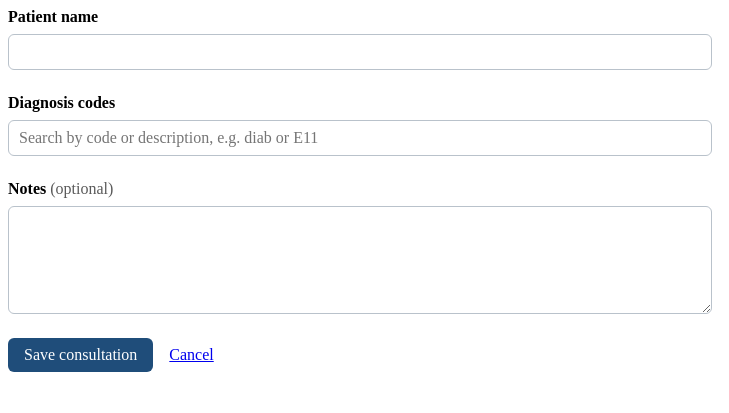
ConsultationForm validation › rejects a submit with no diagnosis codes
In the field labelled "Patient name": [360, 52] box [8, 34, 712, 70], type "Nguyen An"
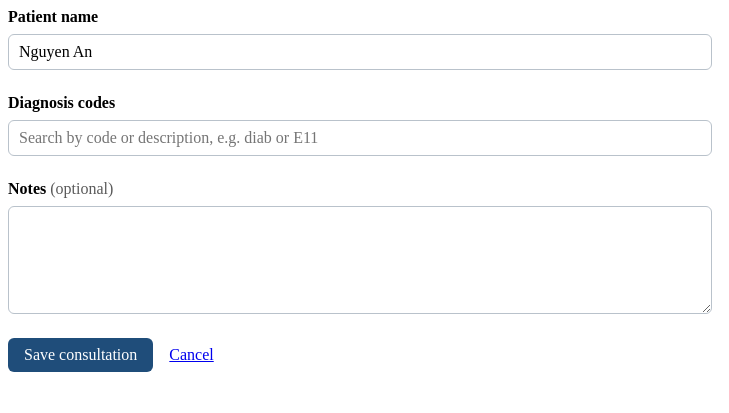
Submit the form
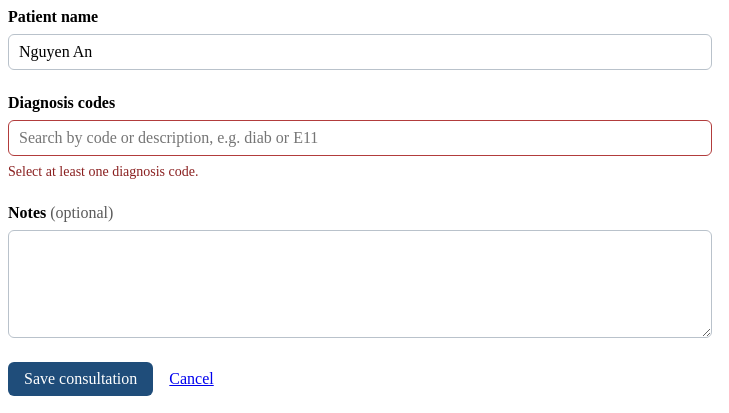
expect the form shows "Select at least one diagnosis code.": met, box [8, 164, 198, 179]
